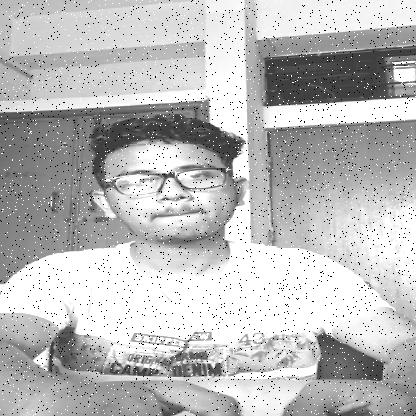Normal: (106, 109, 254, 259)
